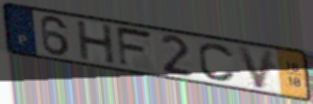2: (158, 34, 197, 80)
6: (39, 15, 71, 58)
C: (197, 41, 238, 84)
F: (114, 24, 156, 69)
H: (74, 20, 117, 66)
V: (234, 44, 277, 91)
